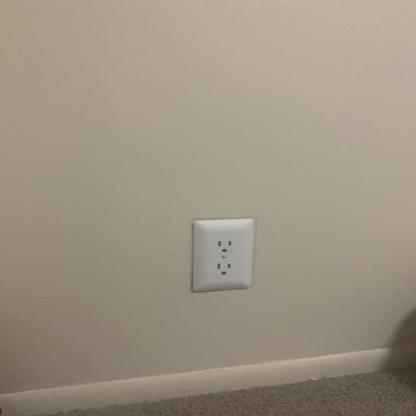OUTLET: (191, 219, 255, 290)
